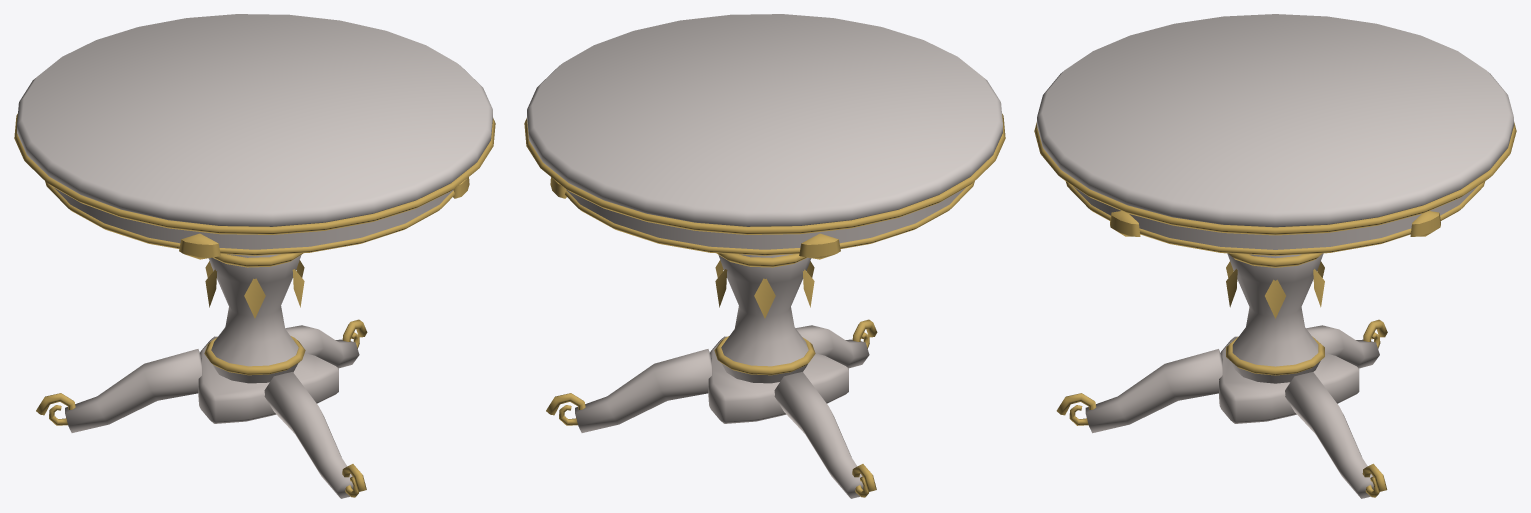
Rendered from hall_table_round.glb.
3 renders of one model, left to right at view 1: azimuth 30°, elevation 25°; view 2: azimuth 150°, elevation 25°; view 3: azimuth 270°, elevation 25°, orthographic.
Visible parts, largest first — view 1: hall_table_round; view 2: hall_table_round; view 3: hall_table_round.
Part boxes in pixels (left/top/right/bottom): hall_table_round: left=14, top=14, right=495, bottom=498; hall_table_round: left=524, top=14, right=1005, bottom=498; hall_table_round: left=1034, top=14, right=1516, bottom=498.
Size of what is drawn, in the model's own units: 1.1 by 0.8 by 1.1.
